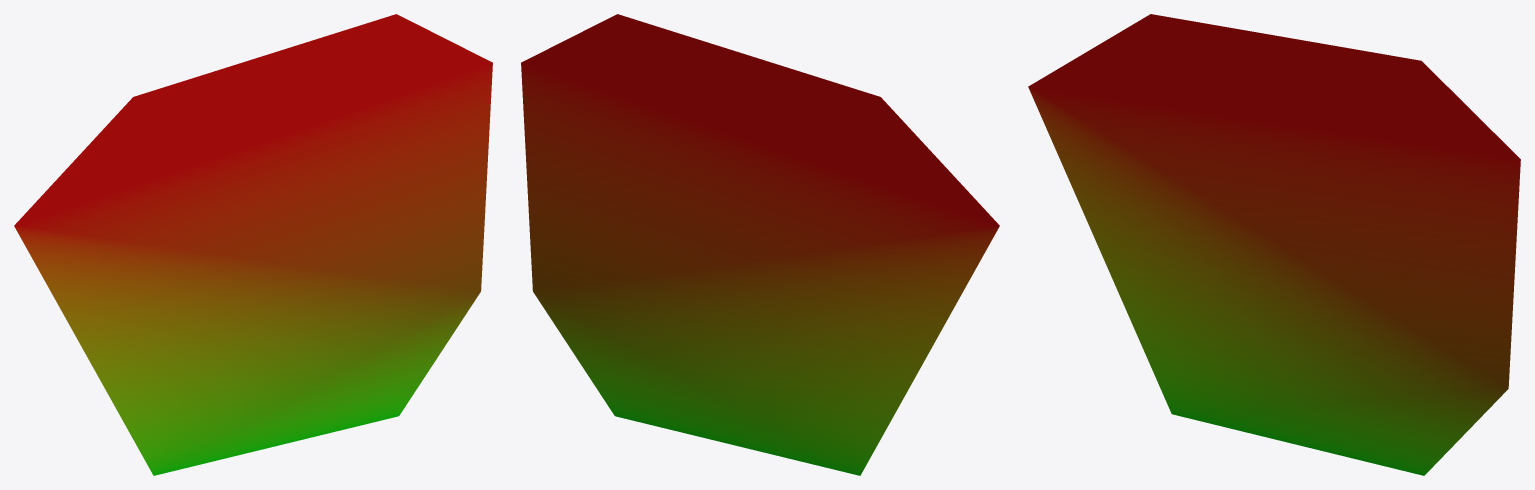
The model's file is Var8_LOD4.fbx.
The picture shows the model from 3 angles, left to right: view 1: azimuth 30°, elevation 25°; view 2: azimuth 150°, elevation 25°; view 3: azimuth 330°, elevation 25°; orthographic projection. The views are drawn at different scales.
Parts seen in each view (by area): view 1: _t5l9_Var8_LOD4; view 2: _t5l9_Var8_LOD4; view 3: _t5l9_Var8_LOD4.
Part boxes in pixels (x1,y1,x2,y2): _t5l9_Var8_LOD4: (14, 14, 492, 475); _t5l9_Var8_LOD4: (521, 14, 999, 475); _t5l9_Var8_LOD4: (1028, 14, 1520, 475).
Bounding box in the file's own units: 37.45 × 30.1 × 1.74e-06.
